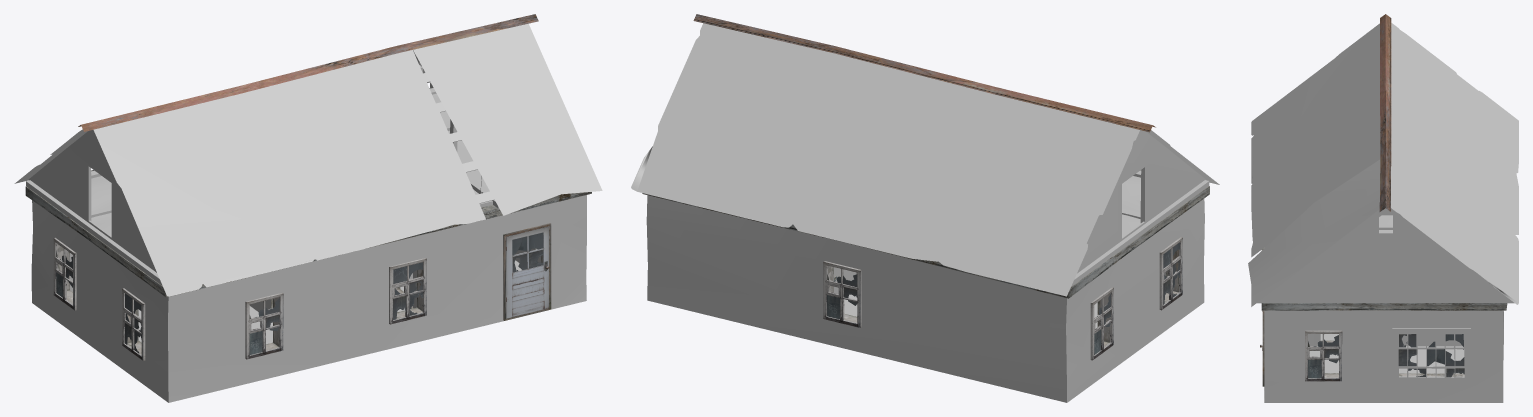
Rendered from Houses_Ready_05.FBX.
The picture shows the model from 3 angles, left to right: view 1: azimuth 30°, elevation 25°; view 2: azimuth 150°, elevation 25°; view 3: azimuth 270°, elevation 25°; orthographic projection. The views are drawn at different scales.
Parts seen in each view (by area): view 1: Roof_11, Corps_01_5, Attic_04, Peak_03, Door_06, Windows_05_2 (×2), Windows_05 (×2), Door_06_Frame; view 2: Roof_11, Corps_01_5, Attic_04, Peak_03, Windows_05_2 (×2), Windows_05; view 3: Roof_11, Corps_01_5, Attic_04, Windows_Big_02, Peak_03, Windows_05_2, Windows_Big_02glass (×2), Windows_05_2glass.
Part boxes in pixels (bbox=[...]): Roof_11: bbox=[14, 23, 602, 296]; Corps_01_5: bbox=[25, 87, 591, 402]; Attic_04: bbox=[26, 53, 499, 285]; Peak_03: bbox=[78, 14, 538, 131]; Door_06: bbox=[506, 226, 548, 318]; Windows_05_2 (×2): bbox=[53, 237, 283, 359]; Windows_05 (×2): bbox=[122, 258, 426, 360]; Door_06_Frame: bbox=[503, 223, 551, 320]; Roof_11: bbox=[631, 23, 1219, 296]; Corps_01_5: bbox=[642, 170, 1209, 402]; Attic_04: bbox=[1071, 130, 1209, 286]; Peak_03: bbox=[693, 14, 1155, 132]; Windows_05_2 (×2): bbox=[823, 261, 1113, 360]; Windows_05: bbox=[1159, 237, 1182, 310]; Roof_11: bbox=[1248, 23, 1518, 306]; Corps_01_5: bbox=[1261, 247, 1507, 402]; Attic_04: bbox=[1257, 208, 1514, 303]; Windows_Big_02: bbox=[1392, 328, 1470, 381]; Peak_03: bbox=[1379, 14, 1391, 211]; Windows_05_2: bbox=[1305, 330, 1342, 381]; Windows_Big_02glass (×2): bbox=[1398, 349, 1444, 366]; Windows_05_2glass: bbox=[1308, 359, 1321, 378].
Bounding box in the file's own units: 1262 × 745 × 620.
